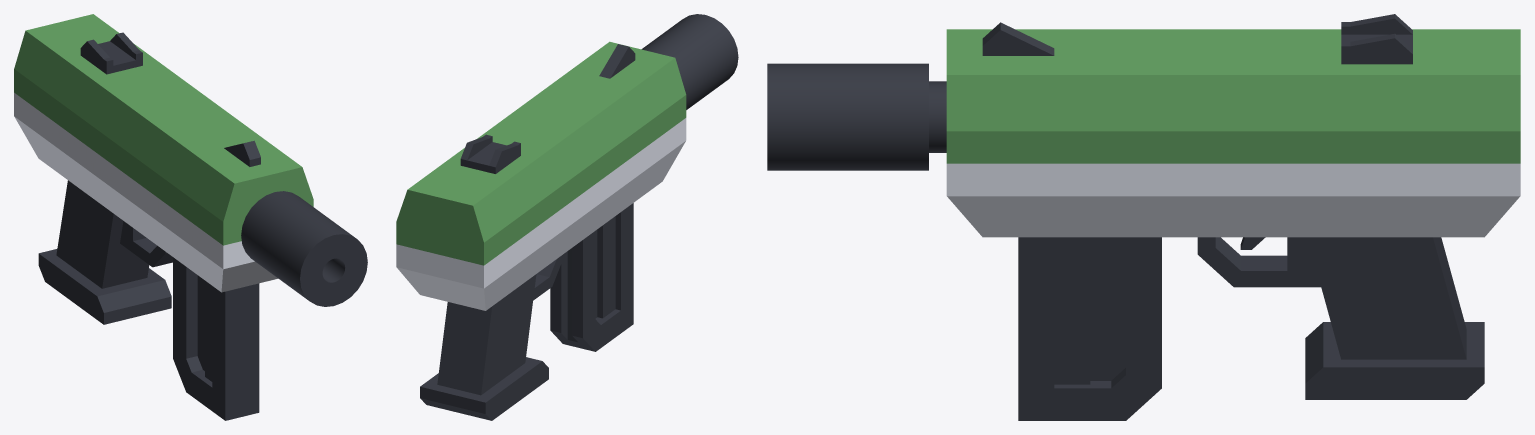
Rendered from gun_small.obj.
3 views of the same model, side by side, from view 1: azimuth 30°, elevation 25°; view 2: azimuth 150°, elevation 25°; view 3: azimuth 270°, elevation 25° (orthographic). The views are drawn at different scales.
Visible parts, largest first — view 1: mergedBlocks; view 2: mergedBlocks; view 3: mergedBlocks.
Part boxes in pixels (x1,y1,x2,y2): mergedBlocks: [14, 14, 367, 420]; mergedBlocks: [396, 14, 738, 420]; mergedBlocks: [767, 14, 1520, 420].
Size of the model in its own units: 0.4 by 1.18 by 2.1.
